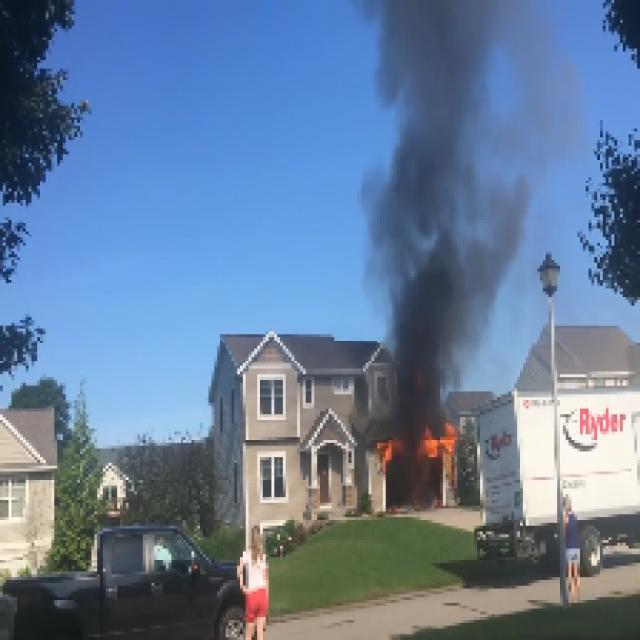Smoke: (372, 2, 512, 434)
